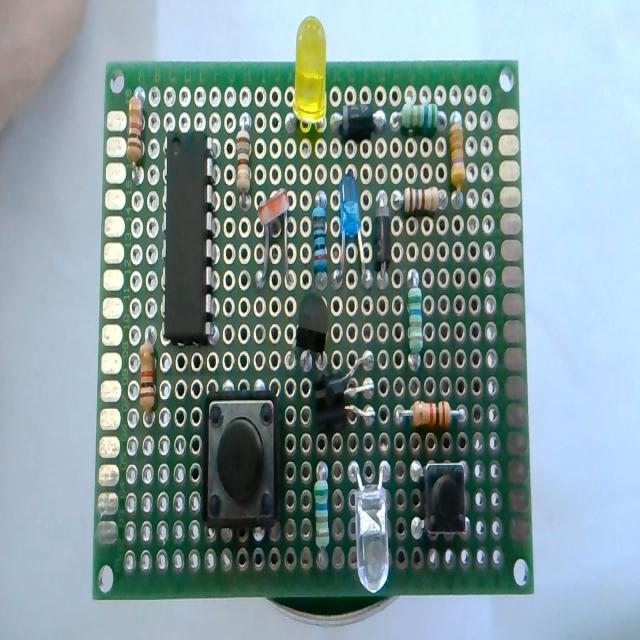IC: (160, 127, 220, 352)
cds: (252, 182, 294, 290)
diode: (329, 97, 389, 142), (372, 193, 394, 289)
led: (344, 452, 396, 598), (286, 12, 329, 137), (332, 171, 372, 294)
resistor: (134, 321, 161, 431), (122, 78, 149, 187), (392, 398, 468, 434), (403, 262, 426, 377), (312, 455, 333, 575), (387, 98, 449, 138), (233, 109, 255, 216), (311, 185, 329, 292), (391, 182, 449, 215), (449, 102, 465, 209)
switch: (198, 384, 286, 539), (409, 448, 474, 546)
transistor: (310, 354, 383, 436), (286, 293, 337, 375)
